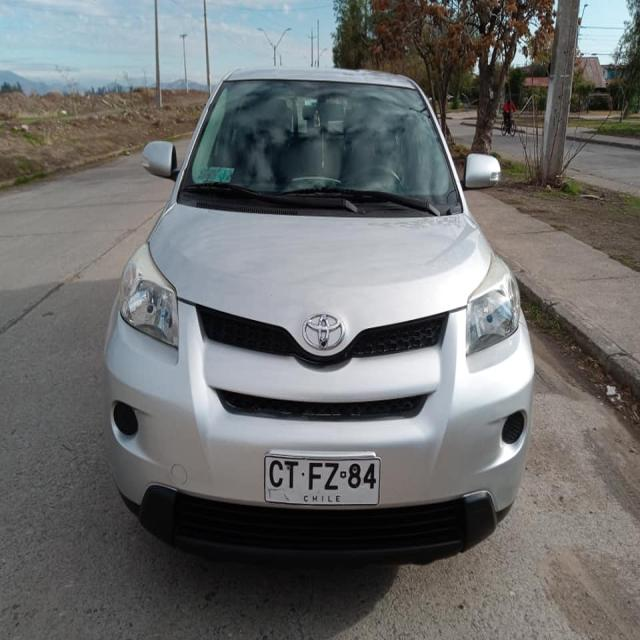patente: (262, 452, 380, 507)
